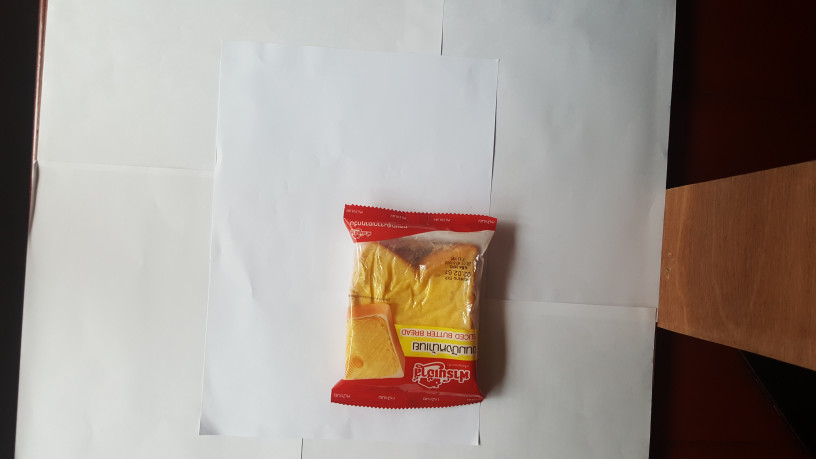farmhouse-bread-butter: (324, 197, 506, 418)
